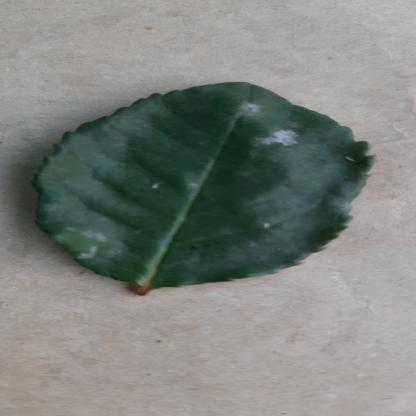powdery-mildew: (23, 82, 377, 288)
